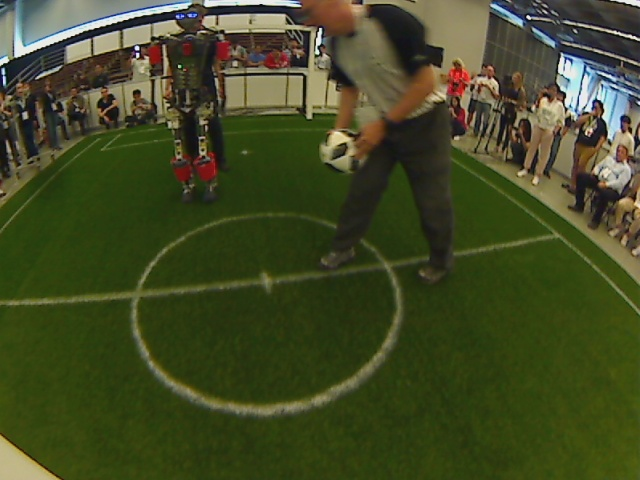ball: (318, 127, 368, 176)
